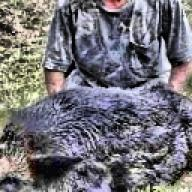boar: (0, 79, 192, 192)
